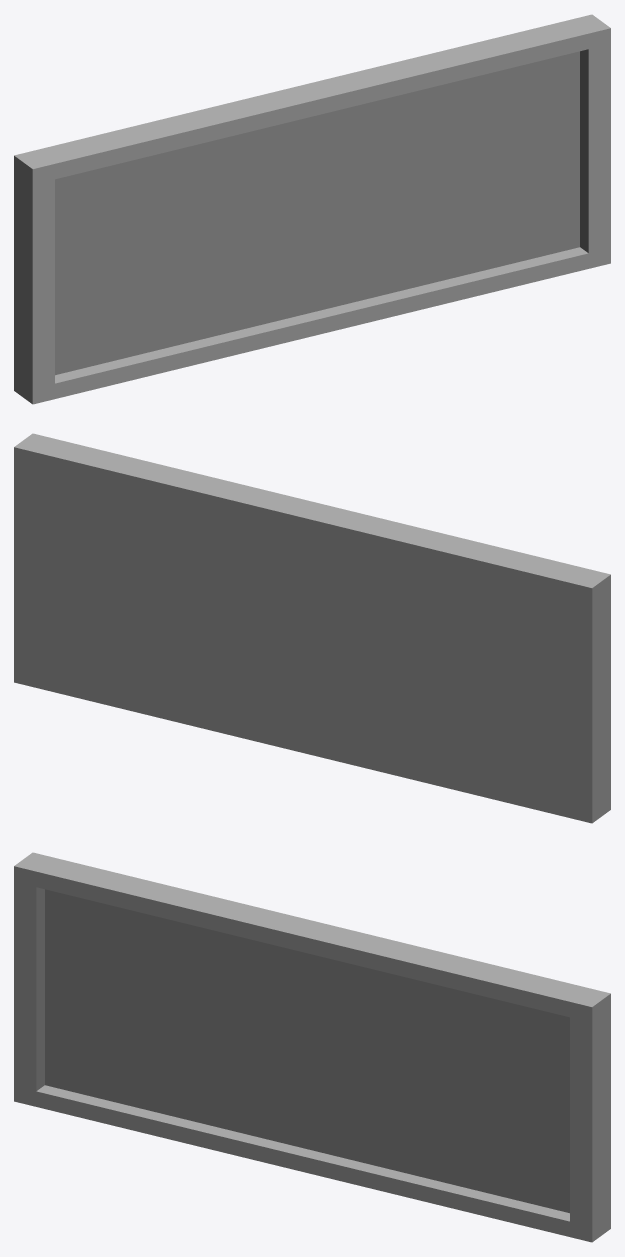
File: AI_Prop_Guns_Rack_Empty.fbx
The picture shows the model from 3 angles, top to bottom: view 1: azimuth 30°, elevation 25°; view 2: azimuth 150°, elevation 25°; view 3: azimuth 330°, elevation 25°; orthographic projection.
Visible parts, largest first — view 1: AI_Prop_Guns_Rack_Empty; view 2: AI_Prop_Guns_Rack_Empty; view 3: AI_Prop_Guns_Rack_Empty.
Boxes of the visible parts, x1,y1,x2,y2 form: AI_Prop_Guns_Rack_Empty: [14, 14, 610, 404]; AI_Prop_Guns_Rack_Empty: [14, 433, 610, 823]; AI_Prop_Guns_Rack_Empty: [14, 852, 610, 1242].
Size of the model in its own units: 5.49 by 2.13 by 0.3092.
